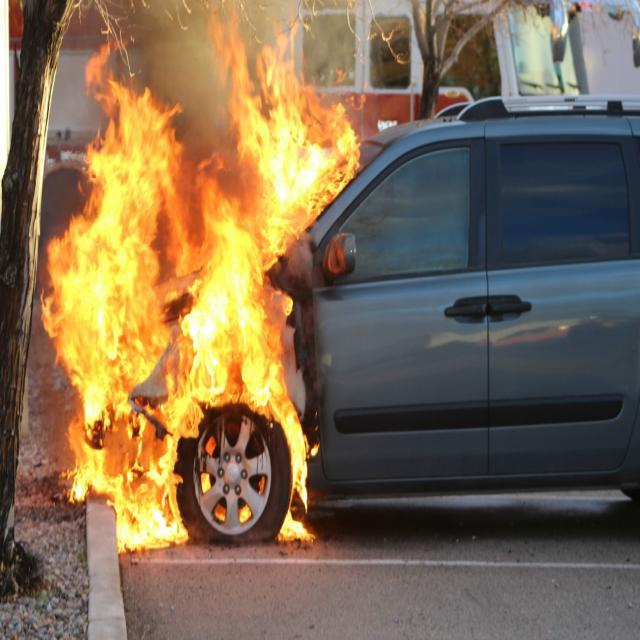Fire: (60, 79, 312, 543), (314, 61, 354, 198)
